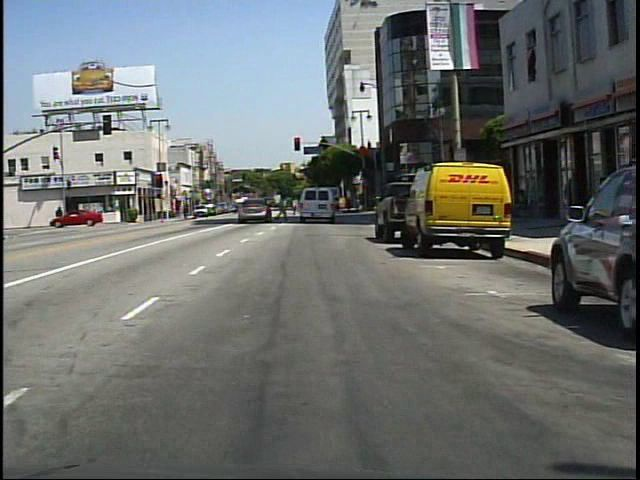person: (511, 182, 535, 223), (274, 193, 292, 224), (289, 196, 299, 218), (54, 205, 64, 221)
